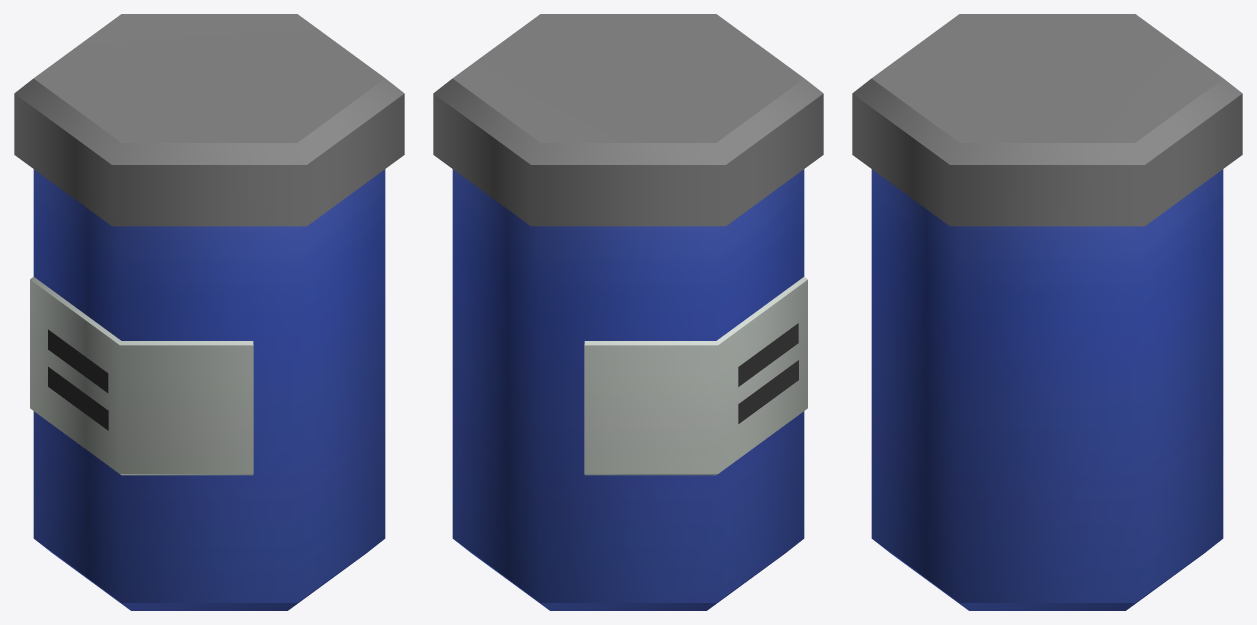
Rendered from Jar_3_E.fbx.
3 views of the same model, side by side, from view 1: azimuth 30°, elevation 25°; view 2: azimuth 150°, elevation 25°; view 3: azimuth 270°, elevation 25° (orthographic).
Visible parts, largest first — view 1: Jar_3_E; view 2: Jar_3_E; view 3: Jar_3_E.
Boxes of the visible parts, box(x1,y1,x2,y2) form: Jar_3_E: box(14, 14, 404, 610); Jar_3_E: box(433, 14, 823, 610); Jar_3_E: box(852, 14, 1242, 610).
Size of the model in its own units: 17.99 by 27.9 by 20.77.
